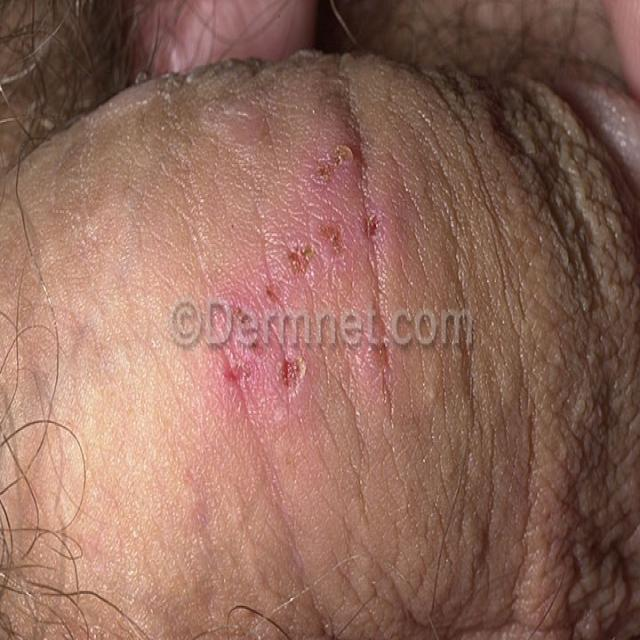Shingles: (212, 142, 378, 402)
